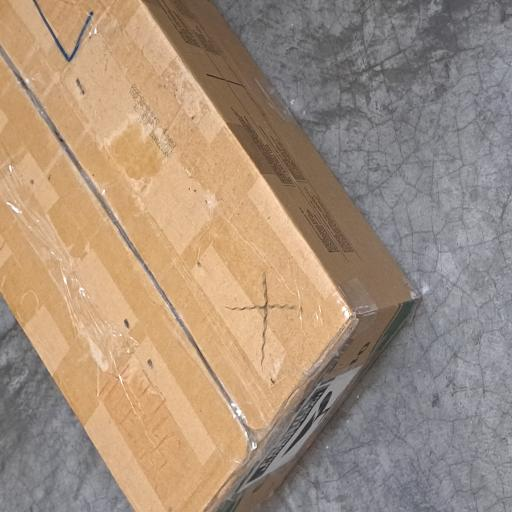cardboard: (0, 0, 423, 512)
